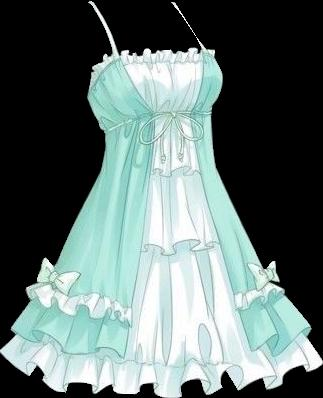Bodice: (87, 5, 222, 134)
Hemline: (10, 116, 156, 359), (192, 112, 312, 354), (0, 349, 322, 397), (140, 238, 223, 257), (150, 163, 200, 178)
Neckline: (91, 0, 203, 54), (120, 52, 154, 115), (191, 47, 205, 111)
Skirt: (0, 114, 322, 397)
Waistline: (102, 109, 212, 136)
